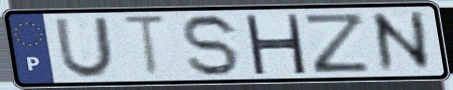H: (241, 13, 309, 76)
N: (366, 8, 437, 76)
S: (180, 12, 244, 79)
T: (119, 14, 171, 80)
U: (52, 15, 116, 80)
Z: (300, 11, 373, 76)
